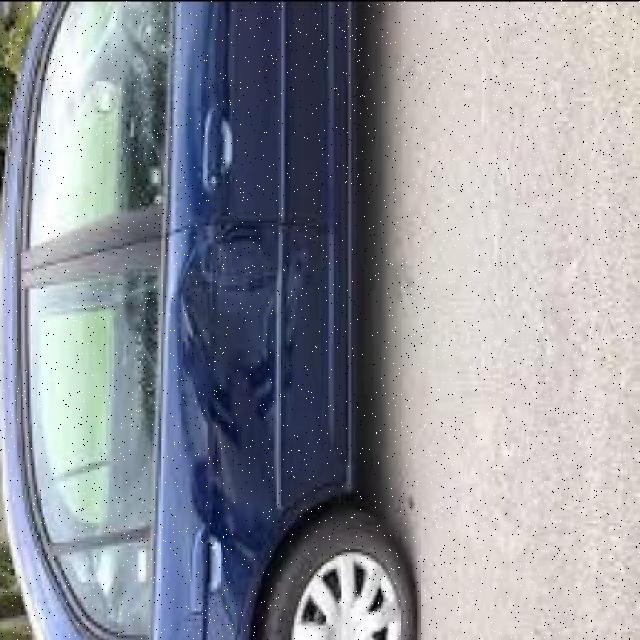damage: (172, 213, 314, 441)
